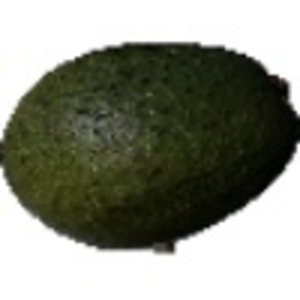abacate: (3, 38, 297, 252)
